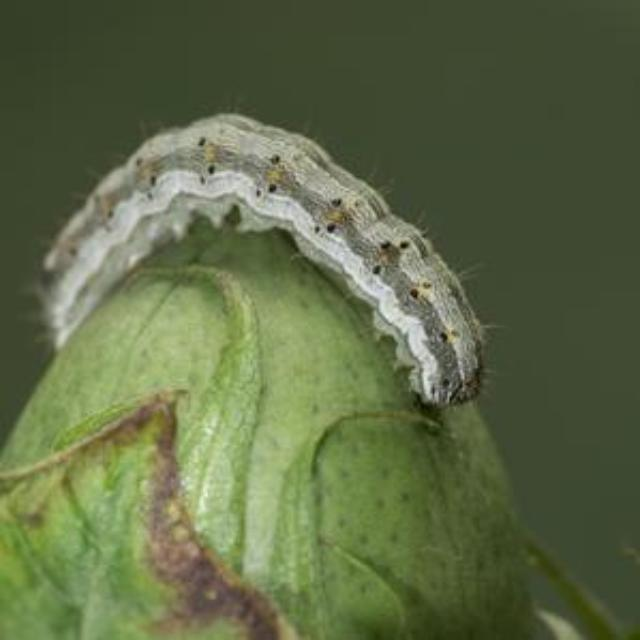Cotton bollworm: (24, 100, 498, 428)
